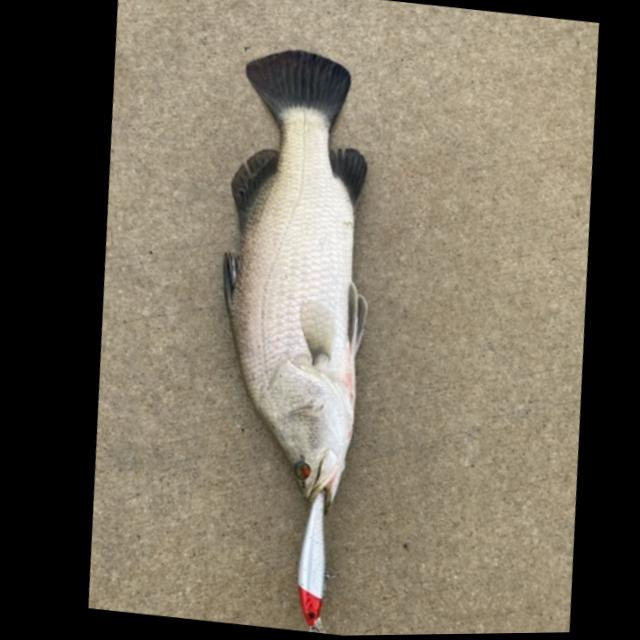Seabass: (175, 41, 413, 519)
